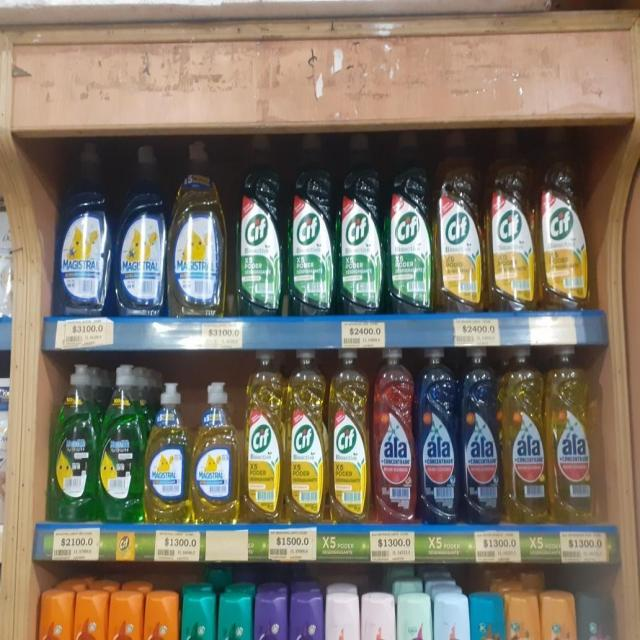ala_conc_amarillo: (548, 342, 596, 526), (503, 344, 546, 526)
ala_conc_azul: (460, 344, 501, 526), (418, 346, 458, 526)
ala_conc_rojo: (372, 346, 416, 526)
ala_crem_blanco: (433, 570, 471, 640), (472, 569, 507, 640), (398, 572, 432, 640)
cif_conc_bot_amarilla: (538, 126, 591, 312), (486, 127, 535, 314), (435, 130, 483, 314), (329, 347, 370, 526), (286, 348, 327, 524), (243, 350, 284, 525)
cif_conc_botella_verde: (236, 134, 285, 318), (289, 133, 335, 318), (338, 133, 384, 316), (387, 131, 432, 315)
esencial: (179, 567, 215, 640)
gigante: (217, 566, 252, 640)
magistral_con_amarillo: (169, 138, 227, 319), (192, 380, 240, 525), (146, 381, 190, 525)
magistral_con_azul: (56, 139, 110, 317), (115, 142, 167, 318), (0, 142, 13, 405), (0, 378, 11, 494)
